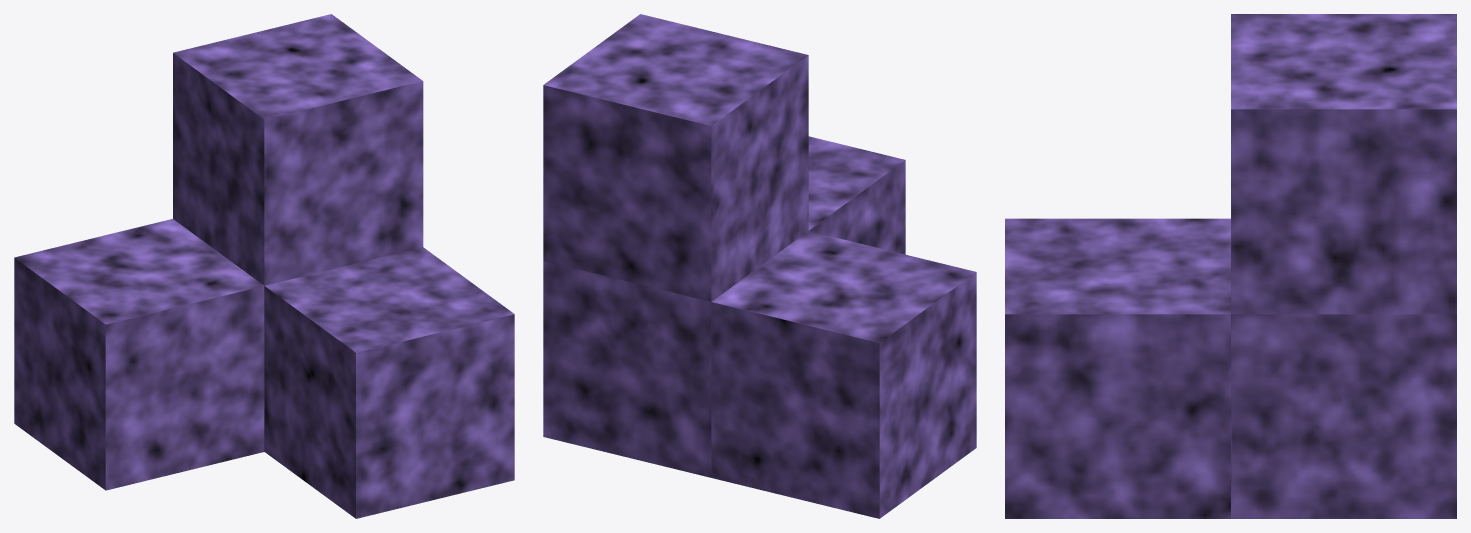
File: puz2.obj
3 renders of one model, left to right at view 1: azimuth 30°, elevation 25°; view 2: azimuth 150°, elevation 25°; view 3: azimuth 270°, elevation 25°, orthographic. The views are drawn at different scales.
Visible parts, largest first — view 1: Cube.005_Cube.006; view 2: Cube.005_Cube.006; view 3: Cube.005_Cube.006.
Part boxes in pixels (x1,y1,x2,y2): Cube.005_Cube.006: [14, 14, 514, 518]; Cube.005_Cube.006: [543, 14, 976, 518]; Cube.005_Cube.006: [1005, 14, 1456, 518].
Bounding box in the file's own units: 4 × 4 × 4.
